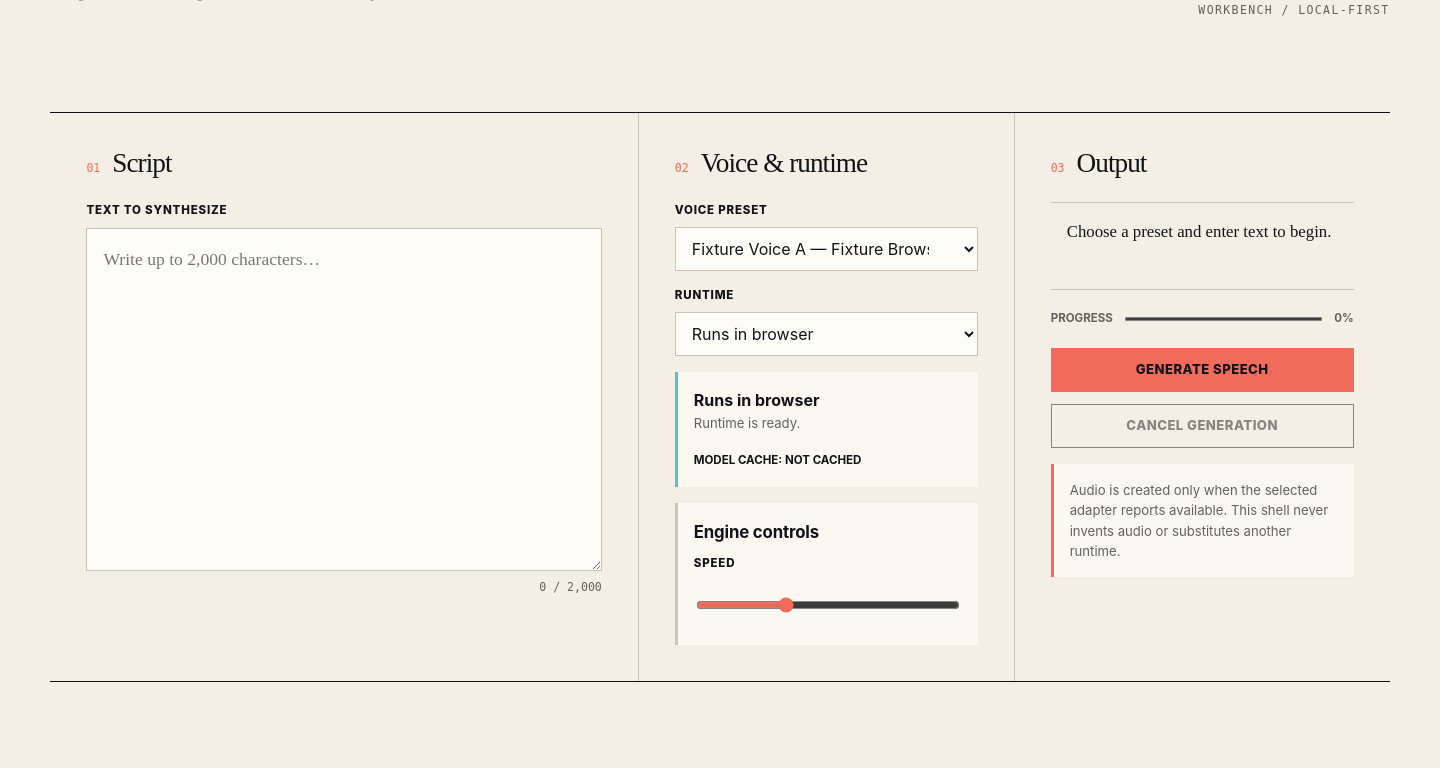
play workbench with an available adapter › cancels the active operation before disposing its runtime on unmount
The image size is (1440, 768).
(page scrolled)
Check: the text "Runtime is ready." is shown, box [694, 415, 800, 431]
In the text box labelled "Text to synthesize": (344, 400) [86, 228, 602, 571], type "Release me."
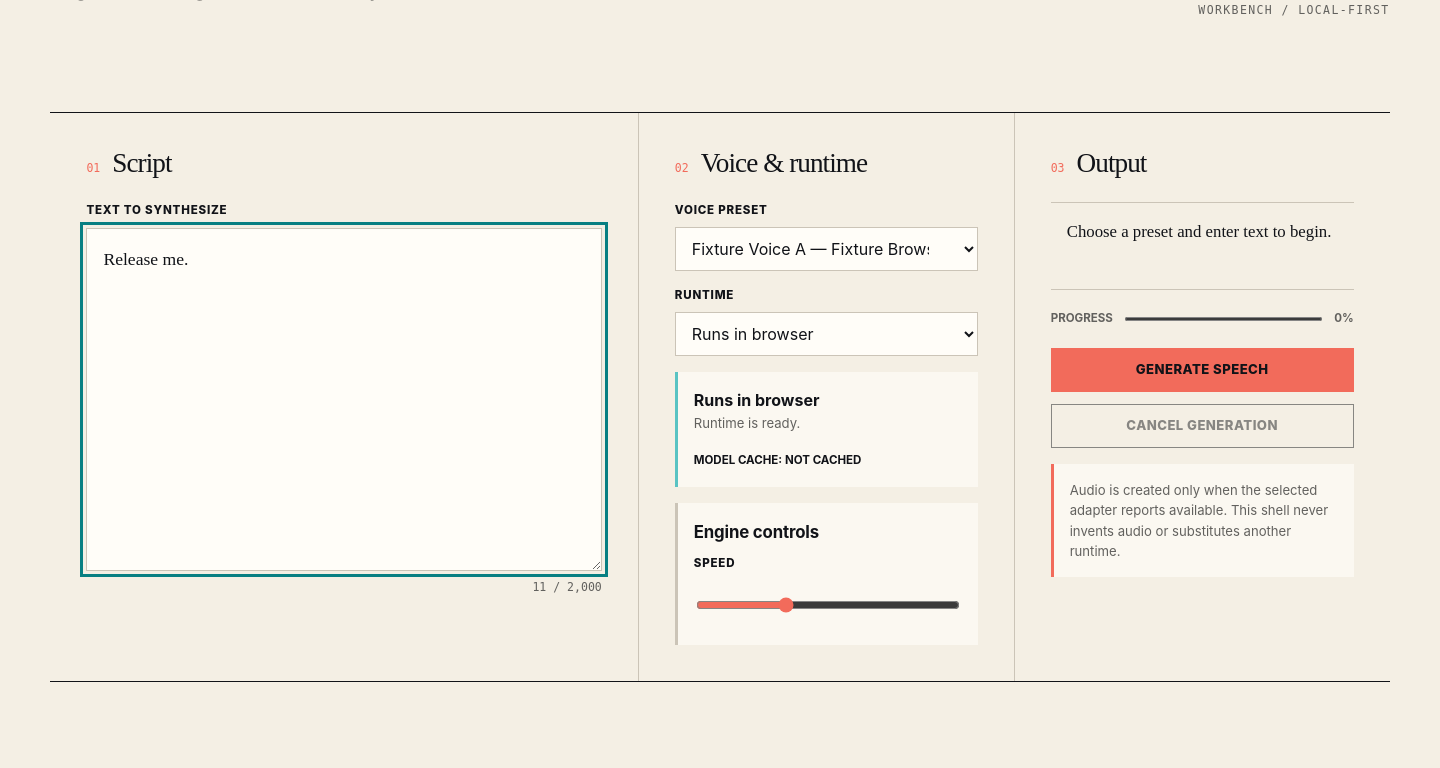
Click the button "Generate speech": (1202, 370) [1051, 348, 1354, 392]
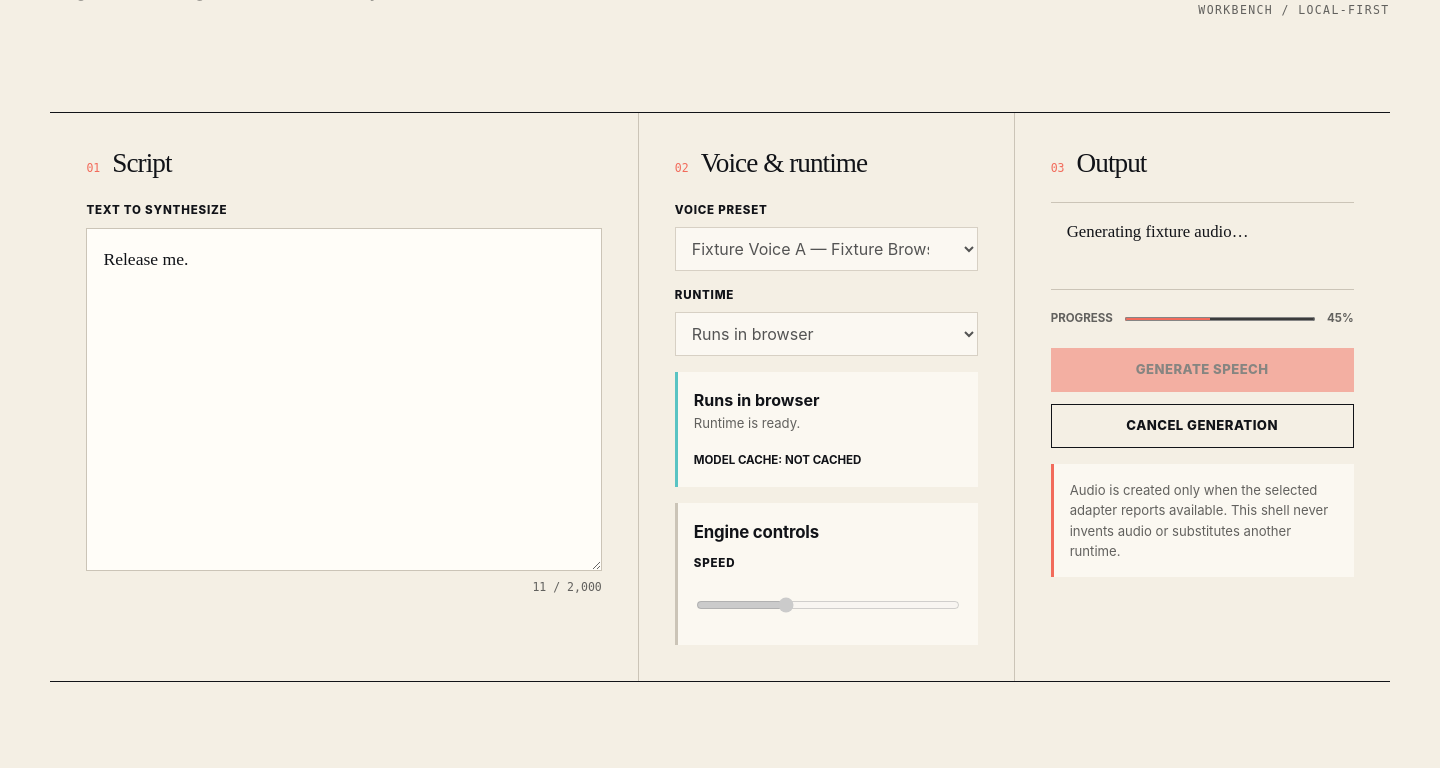
Check: the message named "Generation status" reads "Generating fixture audio…", box [1067, 222, 1248, 241]
